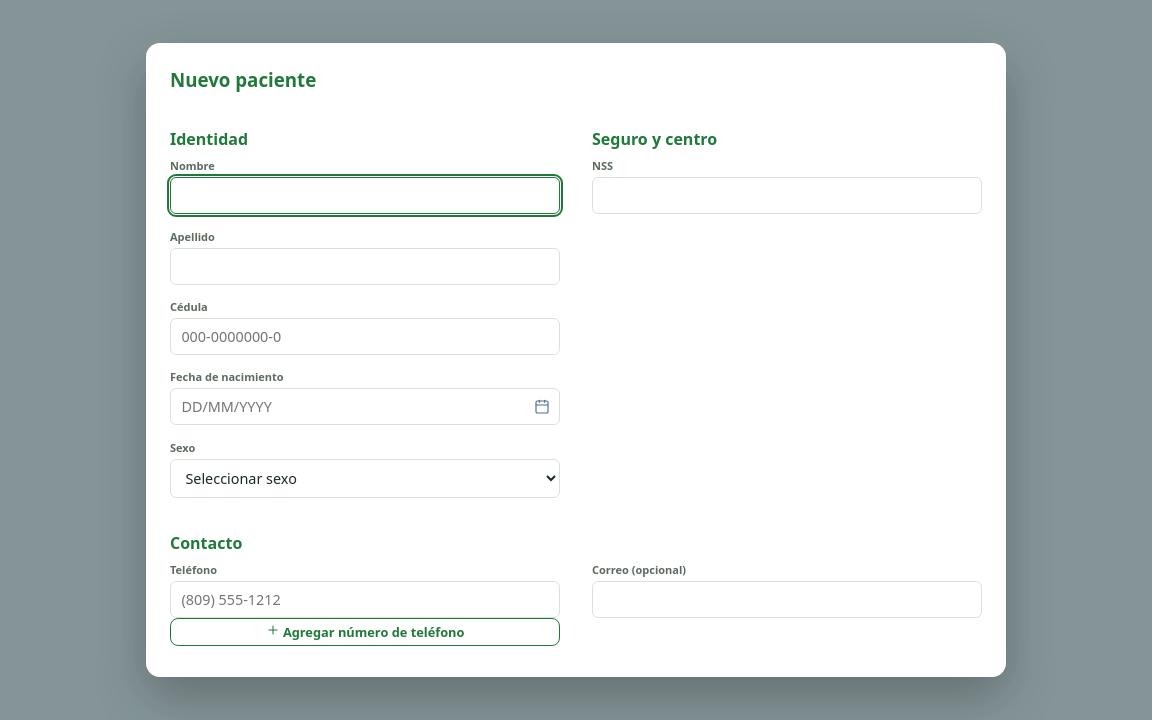
Test: PatientFormModal › blocks submit and shows an error when the phone number is invalid
The image size is (1152, 720).
Type "Ana" into the field labelled "Nombre" at [365, 196], box [170, 177, 560, 214]
Type "Perez" into the field labelled "Apellido" at [365, 266], box [170, 248, 560, 285]
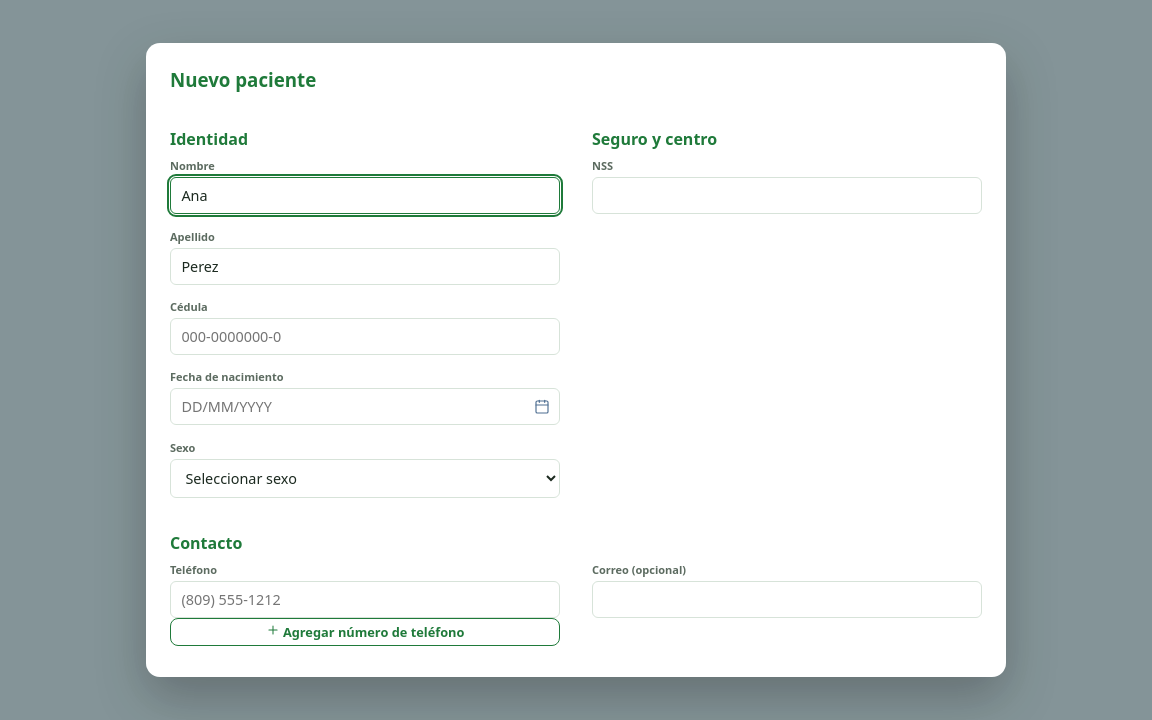
Type "1990-01-01" into the field labelled "Fecha de nacimiento" at [365, 407], box [170, 388, 560, 425]
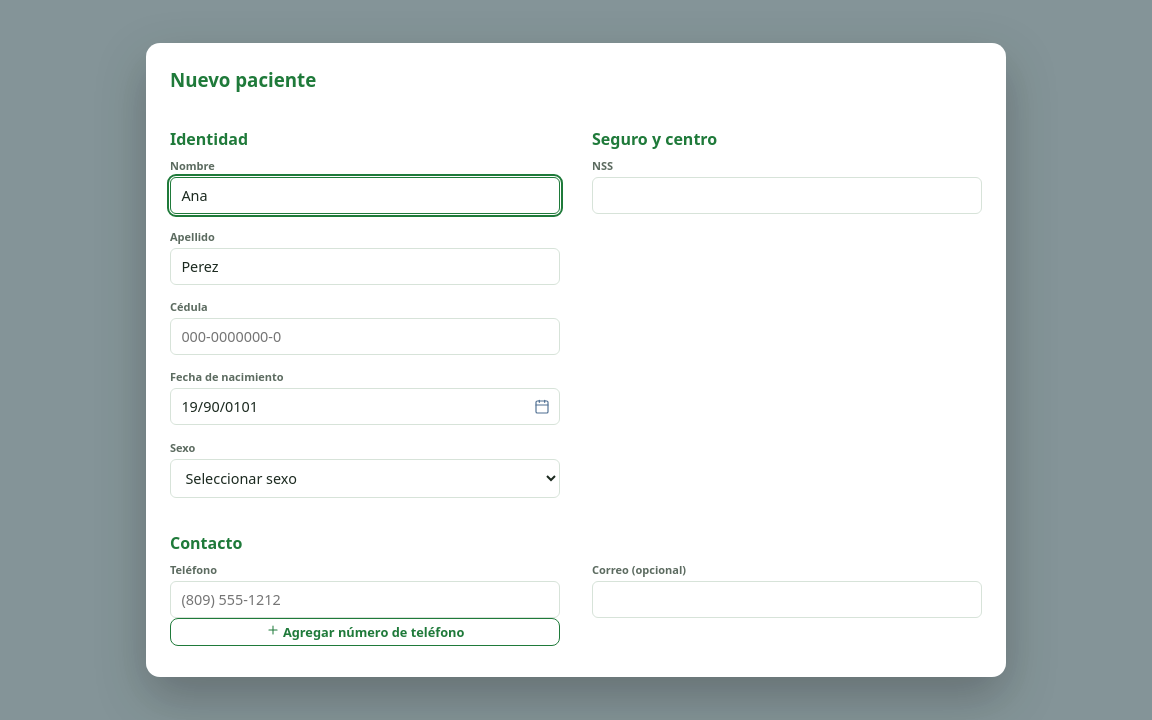
Select "Femenino" in the dropdown labelled "Sexo" at [365, 478], box [170, 459, 560, 498]
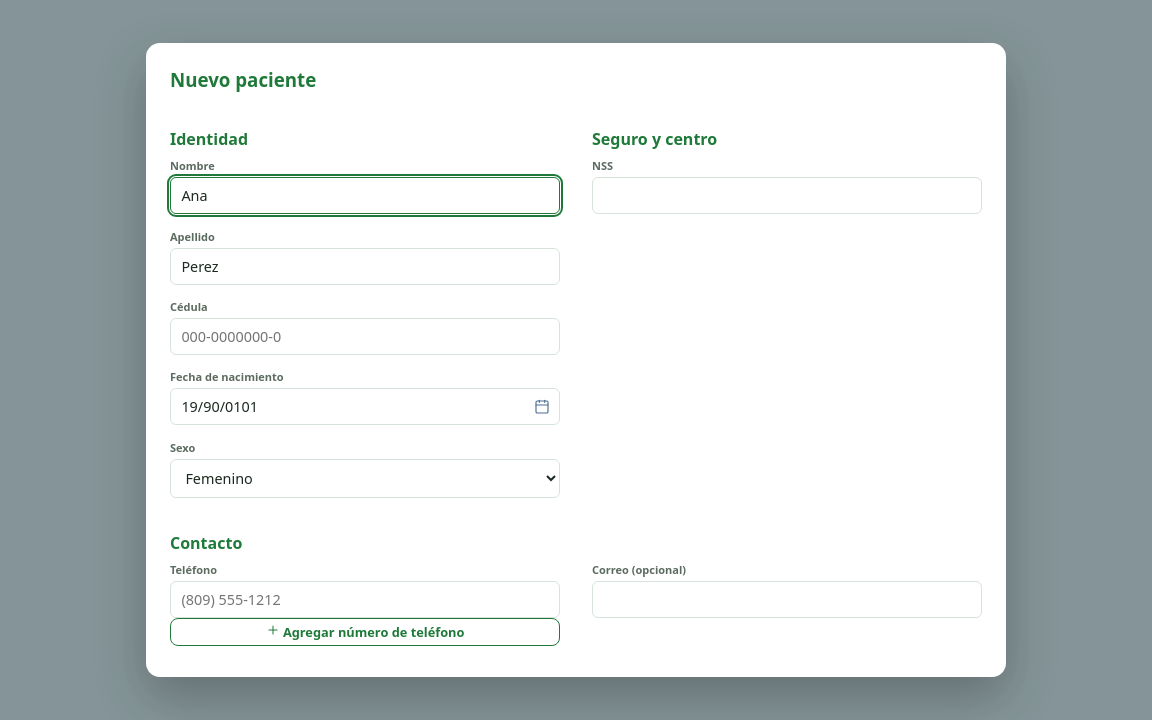
Type "00112345678" into the field labelled "Cédula" at [365, 336], box [170, 318, 560, 355]
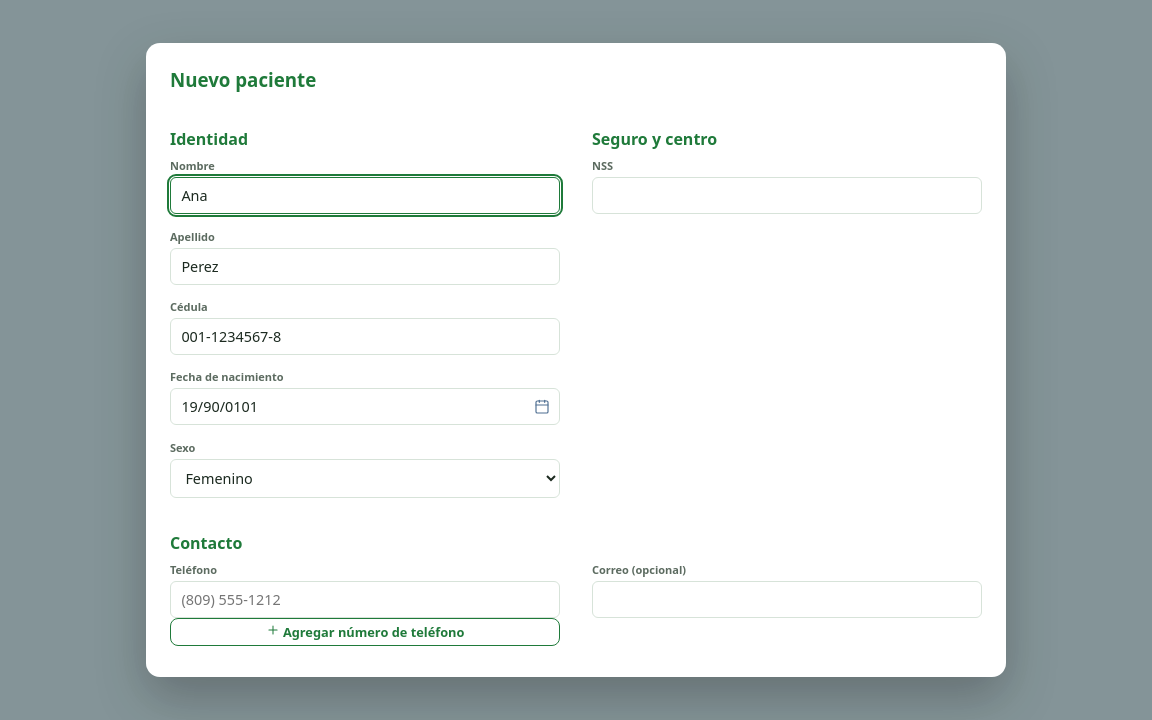
Type "123" into the field labelled "Teléfono Agregar número de teléfono" at [365, 600], box [170, 581, 560, 618]
(page scrolled)
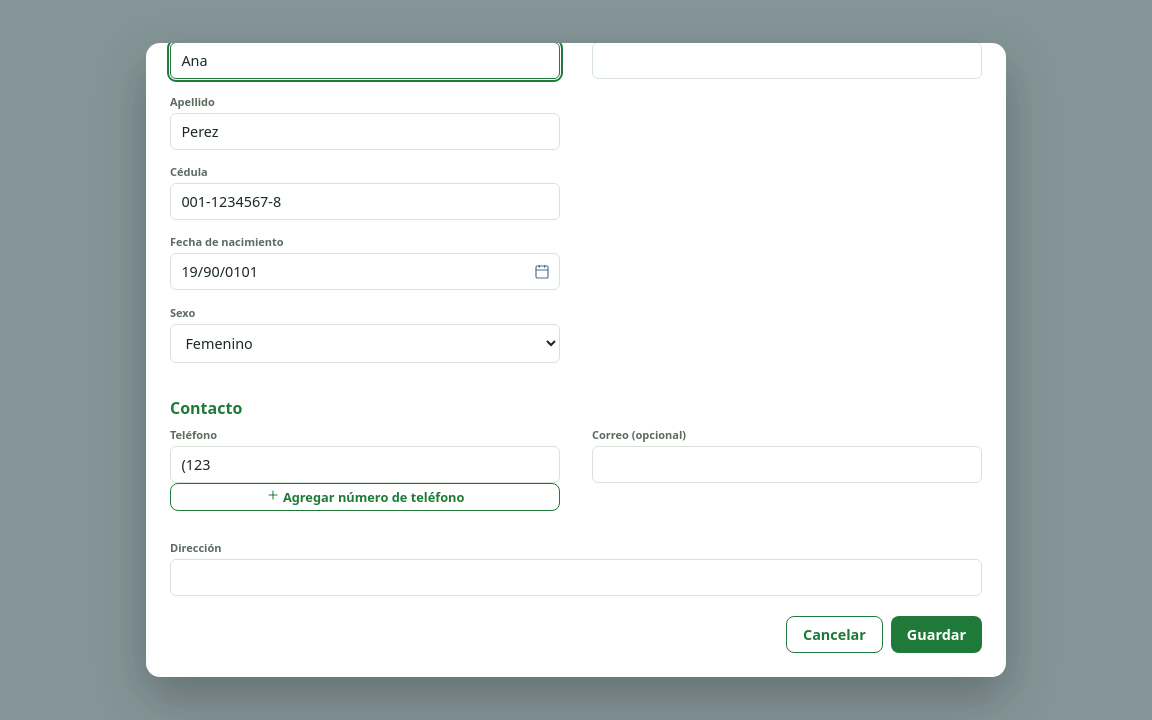
Click the button "Guardar" at [936, 634], box [891, 616, 982, 653]
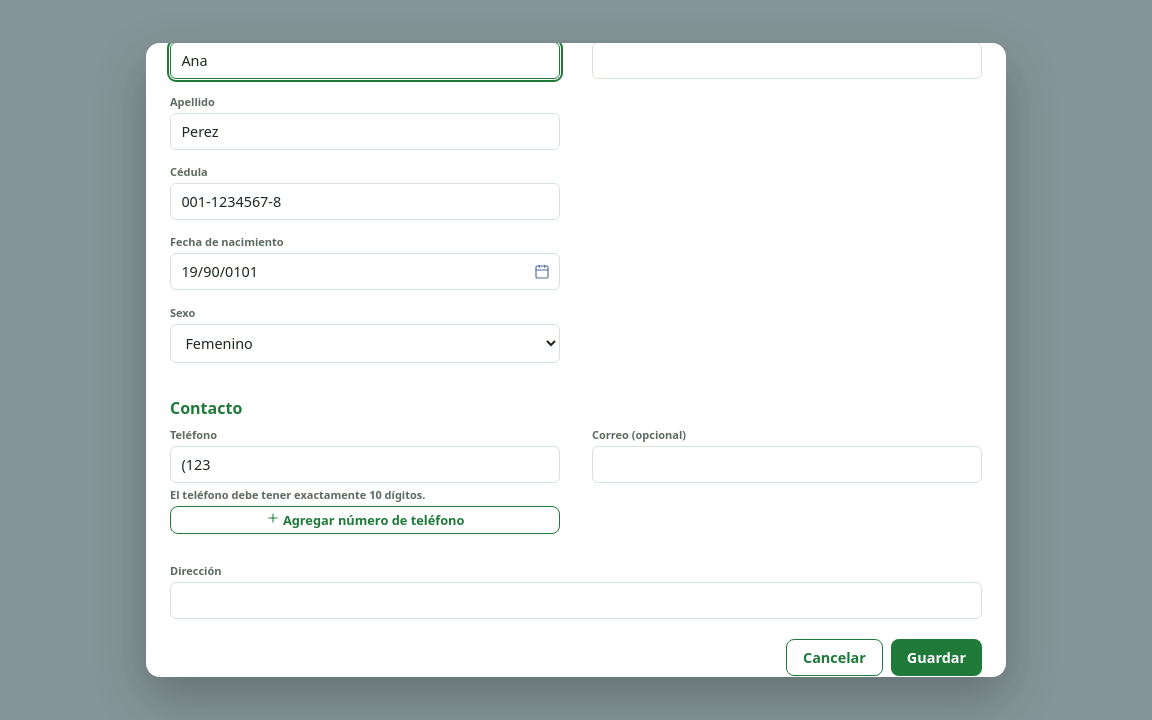
expect the message "El teléfono debe tener exactamente 10 dígitos." is shown: met, box [170, 487, 425, 502]
